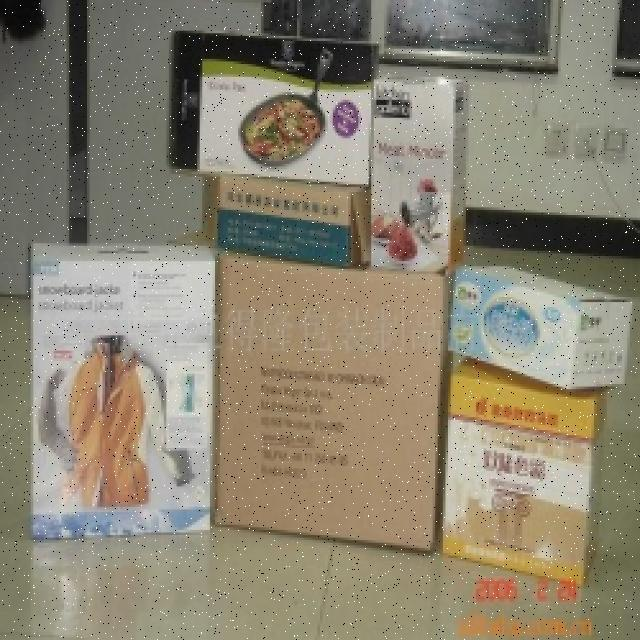box: (217, 246, 447, 562), (28, 242, 223, 540), (452, 358, 618, 593), (195, 41, 372, 184), (453, 261, 640, 392), (377, 68, 475, 266), (207, 170, 370, 264)
